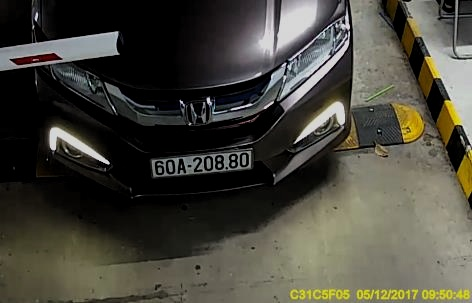plate: (149, 148, 253, 174)
